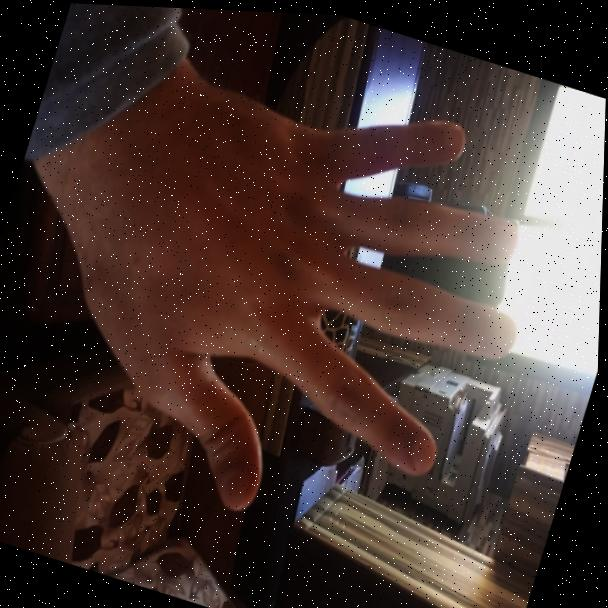five: (47, 15, 579, 568)
